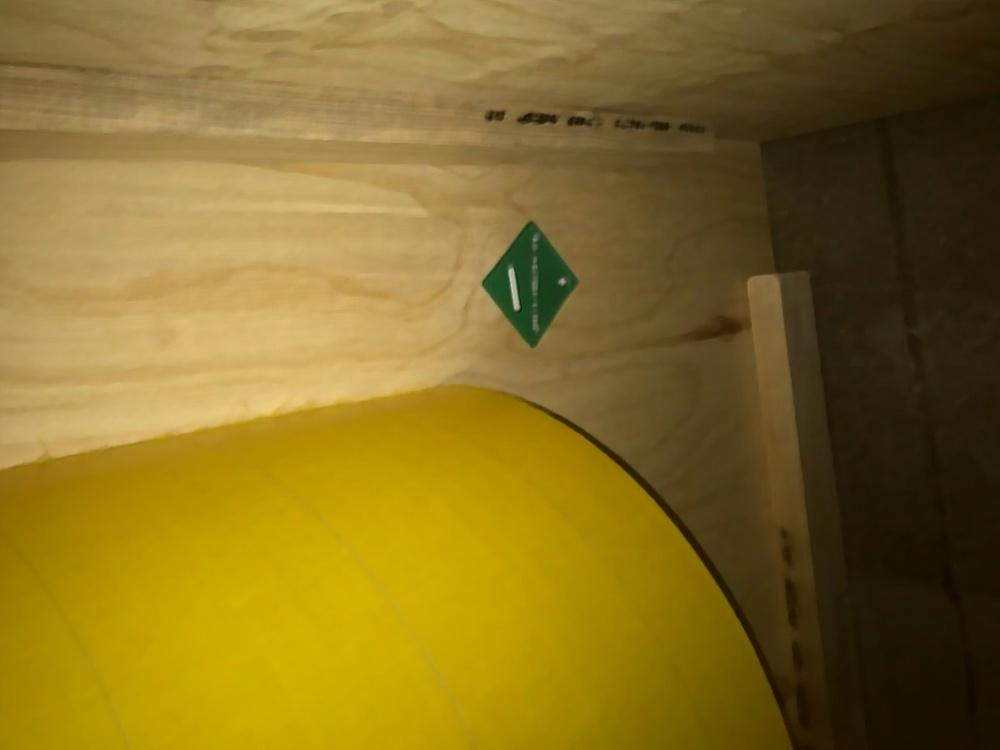non-flammable-gas: (475, 219, 584, 350)
